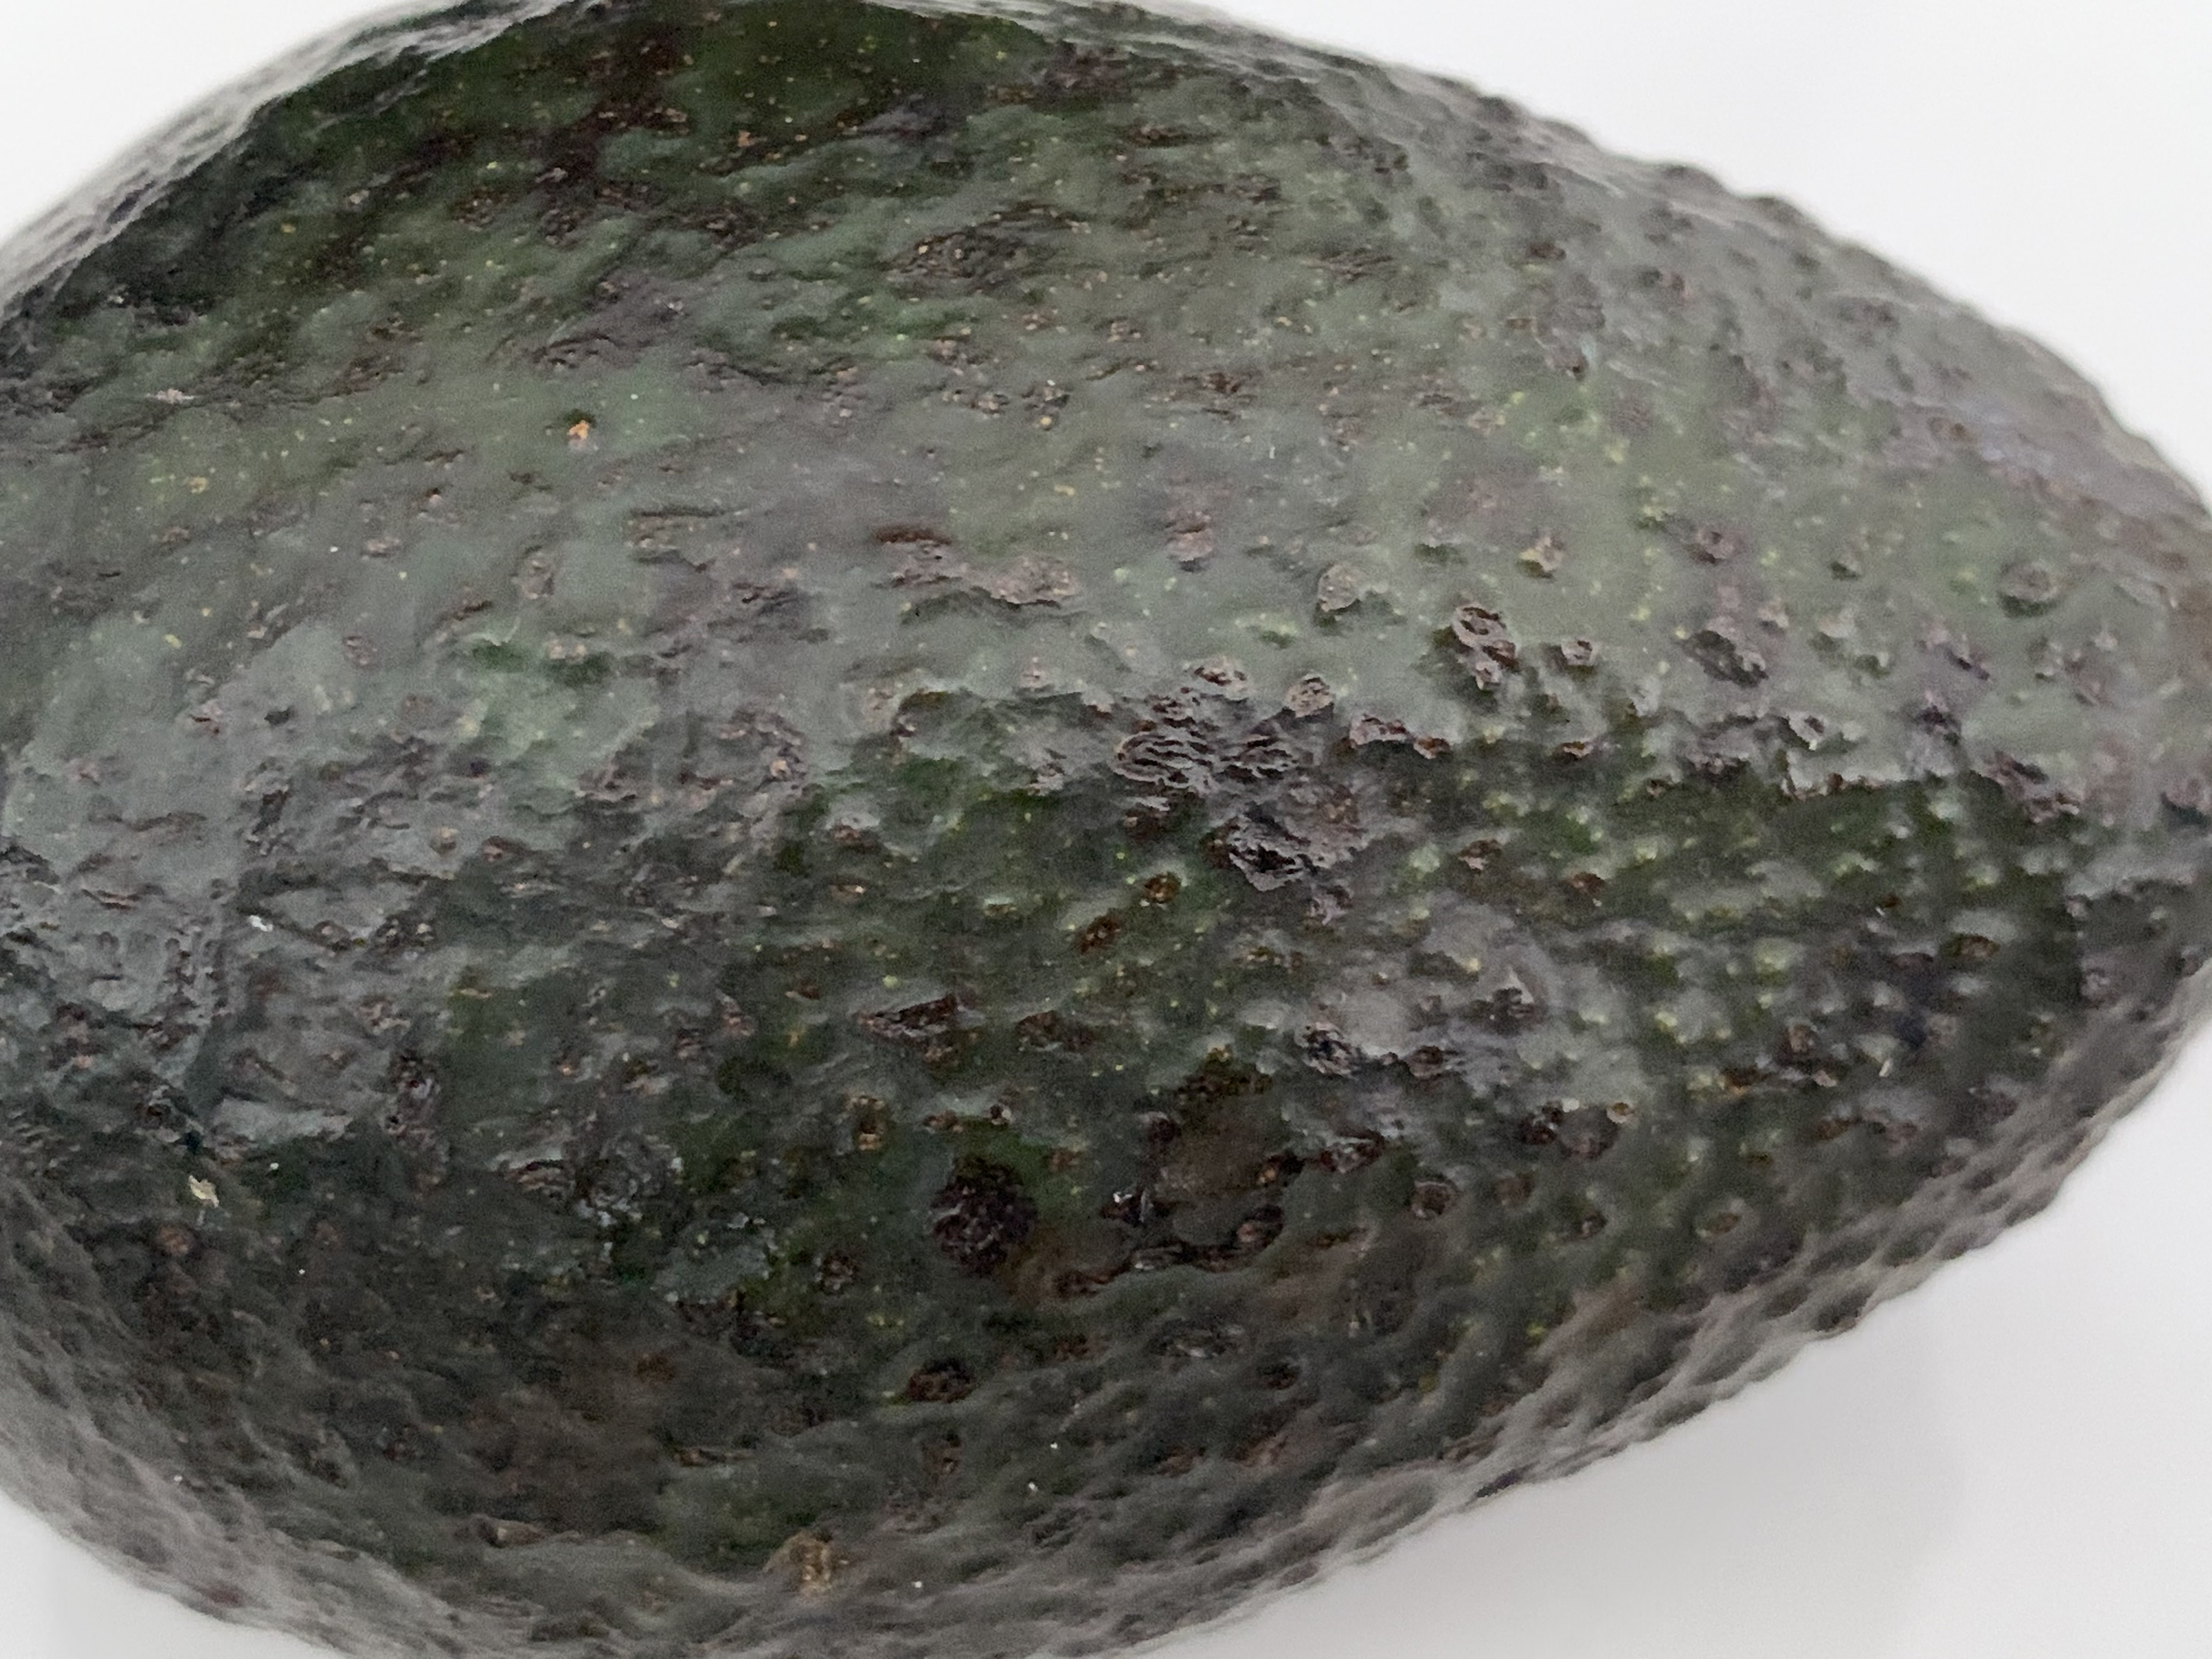avocado: (12, 2, 2212, 1610)
